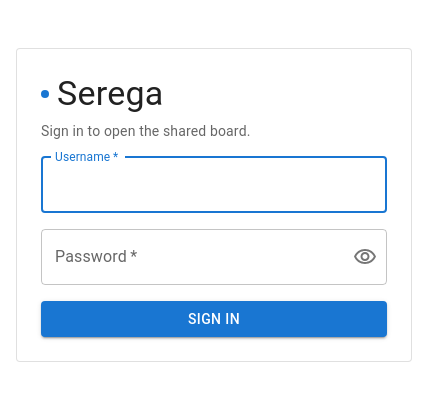
Scenario: responsive shell and login › shows a failed session refresh after login instead of entering an unauthenticated board
Type "alex" into the field labelled "Username *" at (214, 185), box [41,157,387,213]
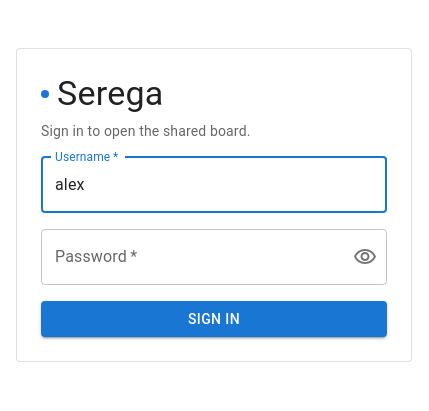
Type "test-password" into the password field labelled "Password *" at (189, 257), box [41,229,337,285]
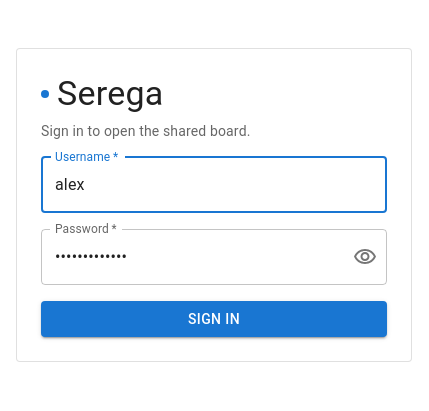
Click the button "Sign in" at (214, 319), box [41,301,387,337]
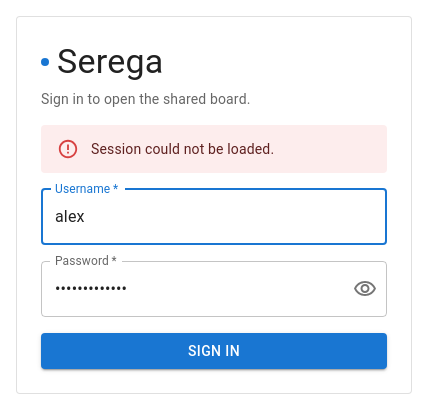
Expected: the text "Session could not be loaded." is shown, [91,141,274,157]
